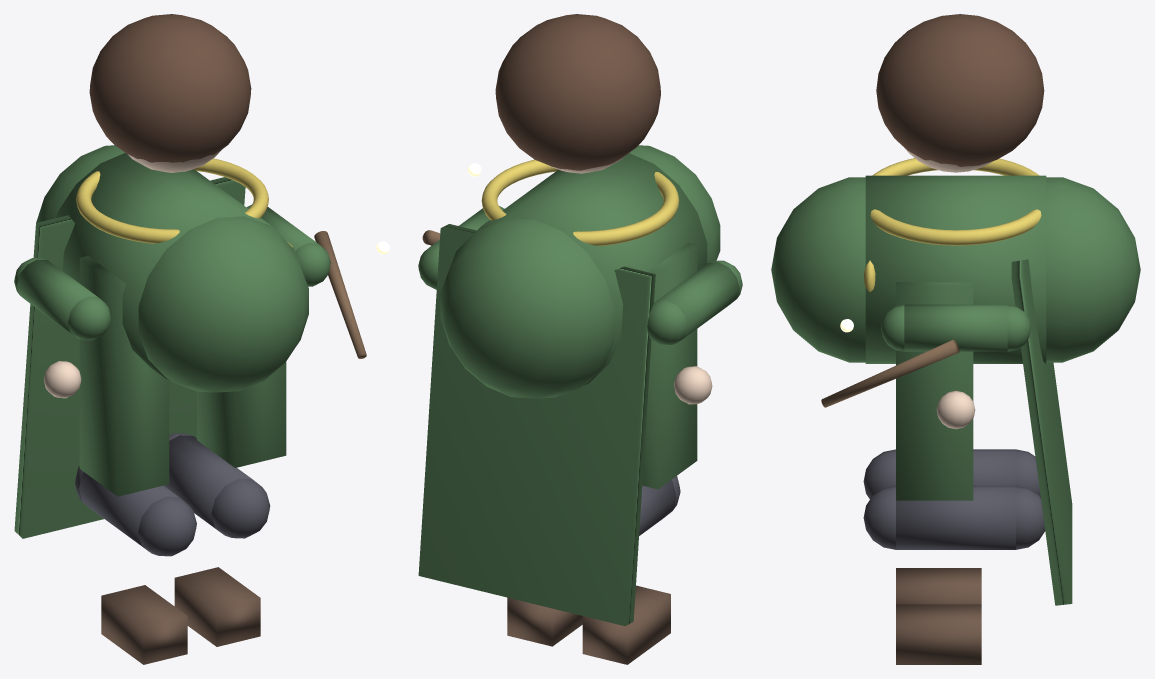
The model's file is harry.glb.
3 renders of one model, left to right at view 1: azimuth 30°, elevation 25°; view 2: azimuth 150°, elevation 25°; view 3: azimuth 270°, elevation 25°, orthographic. The views are drawn at different scales.
Visible parts, largest first — view 1: torso_top, crown, cloak, robe_panel_l, torso_body, robe_panel_r, boot, boot.001, thigh_body.001, trim, upperL_body, thigh_top.001 (+9 smaller); view 2: cloak, torso_bot, crown, torso_body, robe_panel_l, boot, trim, upperL_body, torso_top, boot.001, upperL_bot, thigh_body (+2 smaller); view 3: torso_body, crown, torso_bot, torso_top, robe_panel_r, cloak, thigh_body.001, boot.001, upperR_body, trim, boot, shaft (+8 smaller).
Boxes of the visible parts, bbox=[...] form: torso_top: bbox=[138, 216, 308, 392]; crown: bbox=[89, 14, 251, 162]; cloak: bbox=[14, 177, 245, 538]; robe_panel_l: bbox=[79, 256, 169, 496]; torso_body: bbox=[56, 153, 274, 379]; robe_panel_r: bbox=[197, 362, 286, 467]; boot: bbox=[101, 585, 187, 664]; boot.001: bbox=[174, 567, 260, 646]; thigh_body.001: bbox=[164, 435, 251, 533]; trim: bbox=[76, 158, 268, 243]; upperL_body: bbox=[17, 259, 97, 335]; thigh_top.001: bbox=[211, 478, 270, 538]; cloak: bbox=[418, 224, 655, 625]; torso_bot: bbox=[440, 218, 614, 398]; crown: bbox=[495, 14, 660, 170]; torso_body: bbox=[476, 153, 707, 385]; robe_panel_l: bbox=[642, 242, 697, 489]; boot: bbox=[582, 585, 670, 664]; trim: bbox=[481, 159, 679, 245]; upperL_body: bbox=[657, 262, 739, 340]; torso_top: bbox=[629, 145, 720, 263]; boot.001: bbox=[507, 597, 582, 646]; upperL_bot: bbox=[647, 300, 687, 345]; thigh_body: bbox=[639, 480, 676, 535]; torso_body: bbox=[865, 175, 1046, 363]; crown: bbox=[876, 14, 1044, 166]; torso_bot: bbox=[1046, 177, 1140, 362]; torso_top: bbox=[771, 177, 865, 362]; robe_panel_r: bbox=[896, 282, 973, 500]; cloak: bbox=[1011, 259, 1072, 605]; thigh_body.001: bbox=[896, 485, 1015, 549]; boot.001: bbox=[896, 604, 981, 664]; upperR_body: bbox=[904, 304, 1007, 351]; trim: bbox=[870, 158, 1041, 245]; boot: bbox=[896, 568, 981, 604]; shaft: bbox=[821, 339, 959, 407].
Size of the model in its own units: 0.7987 by 1.58 by 0.86.
